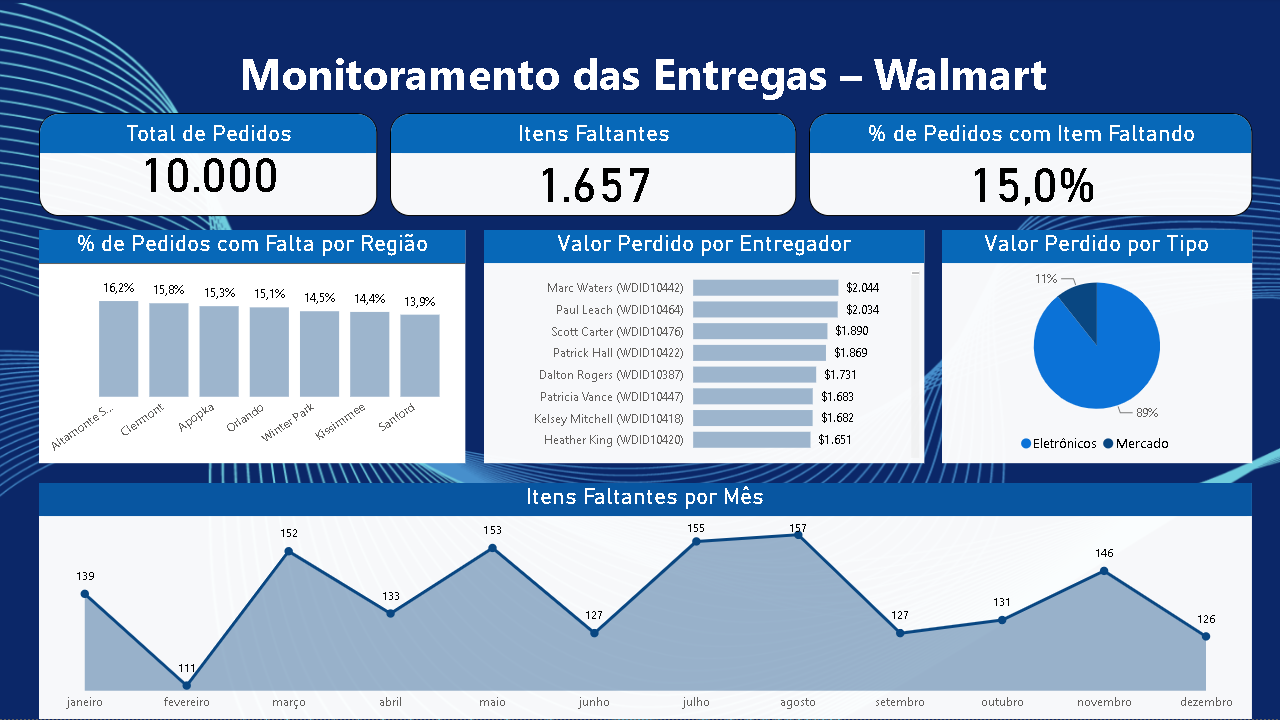

This screenshot's page, from the dashboard's own definition file:
{"tool":"powerbi","page":{"name":"Página 1","canvas":[1280,720],"ordinal":0},"visuals":[{"type":"card","title":"Total de Pedidos","fields":{"Values":["Pedidos.Pedidos"]},"box":[39.9,114.9,337.8,103.2],"z":0},{"type":"card","title":"Itens Faltantes","fields":{"Values":["Pedidos.Itens Faltantes"]},"box":[390.3,114.9,405.9,103.2],"z":1000},{"type":"clusteredBarChart","title":"Valor Perdido por Entregador","fields":{"Y":["Produtos Perdidos.Valor Perdido"],"Category":["Entregadores.Entregador"]},"box":[484.7,231.7,440,232.6],"z":2000},{"type":"columnChart","title":"% de Pedidos com Falta por Região","fields":{"Category":["Pedidos.Região"],"Y":["Pedidos.% Pedidos com Item Faltando"]},"box":[39.9,231.7,426.3,232.6],"z":3000},{"type":"pieChart","title":"Valor Perdido por Tipo","fields":{"Series":["Produtos.Tipo de Produto"],"Y":["Produtos Perdidos.Valor Perdido"]},"box":[942.2,231.7,309.5,232.6],"z":5000},{"type":"areaChart","title":"Itens Faltantes por Mês","fields":{"Category":["Pedidos.Data.Variation.Hierarquia de datas.Mês"],"Y":["Sum(Pedidos.Itens Perdidos)"]},"box":[39.9,484.7,1211.9,235.6],"z":6000},{"type":"card","title":"% de Pedidos com Item Faltando","fields":{"Values":["Pedidos.% Pedidos com Item Faltando"]},"box":[808.9,114.9,442.9,103.2],"z":8000},{"type":"textbox","box":[47.7,39.9,1192.4,75],"z":9000}]}

Visuals, with their boxes in screenshot pixels (x1, y1, x2, y2), scaled from the page's 1280x720 canvas onto the 1280x720 screenshot:
"Total de Pedidos" card: bbox=(40, 115, 378, 218)
"Itens Faltantes" card: bbox=(390, 115, 796, 218)
"Valor Perdido por Entregador" clusteredBarChart: bbox=(485, 232, 925, 464)
"% de Pedidos com Falta por Região" columnChart: bbox=(40, 232, 466, 464)
"Valor Perdido por Tipo" pieChart: bbox=(942, 232, 1252, 464)
"Itens Faltantes por Mês" areaChart: bbox=(40, 485, 1252, 719)
"% de Pedidos com Item Faltando" card: bbox=(809, 115, 1252, 218)
textbox: bbox=(48, 40, 1240, 115)
